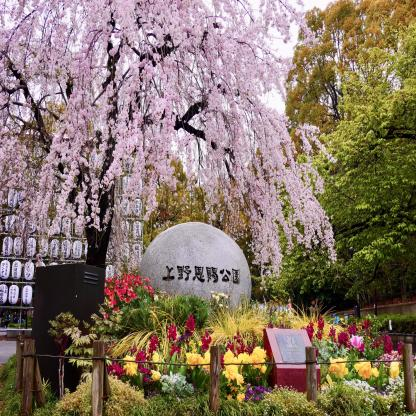ShidareZakura: (0, 0, 338, 274)
